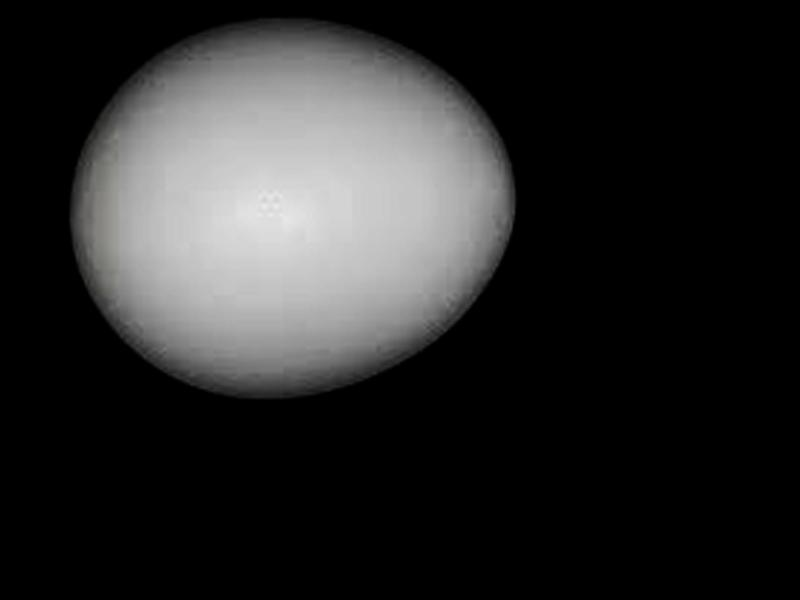Eggs: (70, 15, 513, 399)
